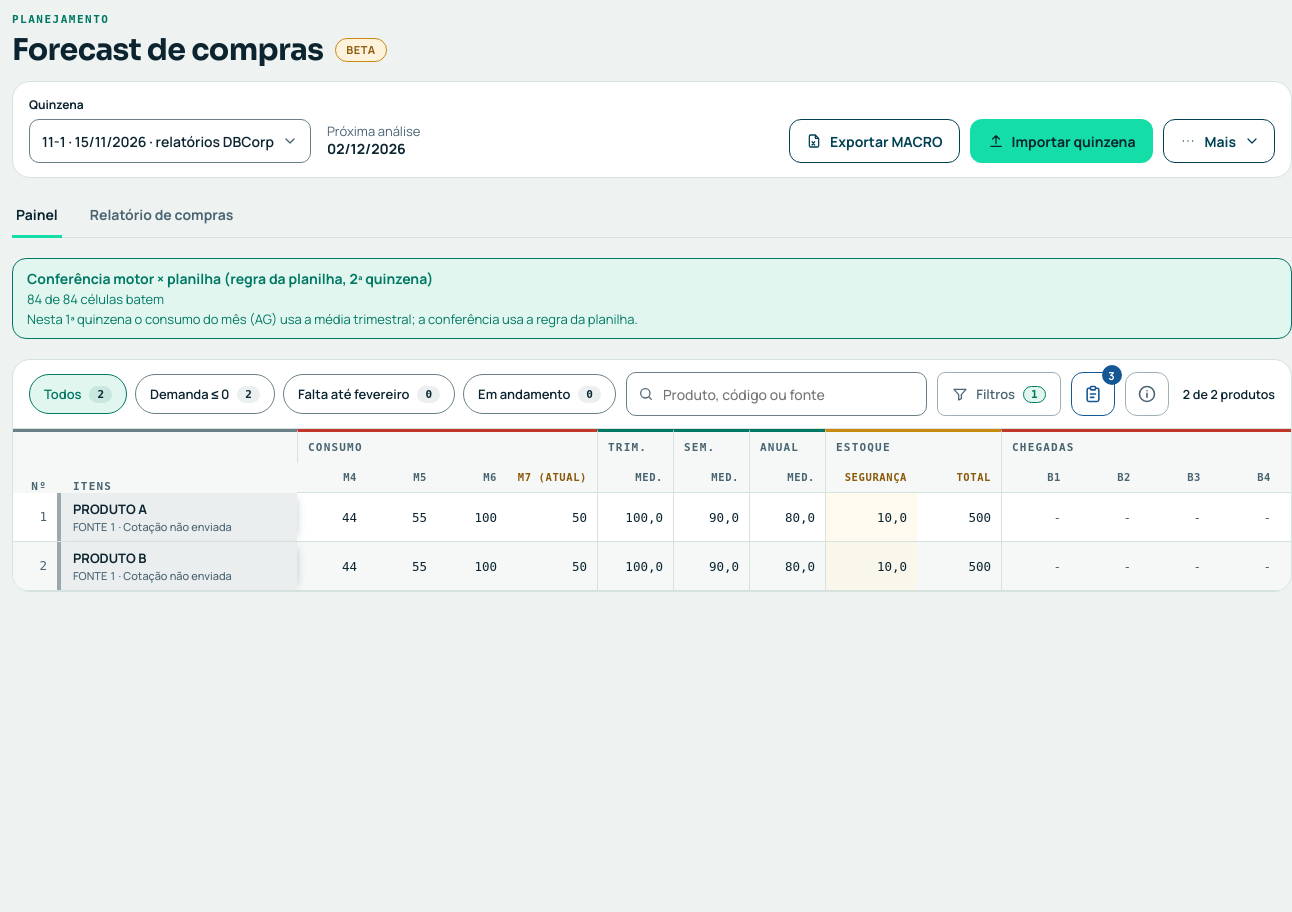
Test: Painel - notas da quinzena em icone › o balao abre ao passar o mouse, com os textos exatos
Hover over the button with test id "fc-notas-botao" at (1092, 394), box [1070,372,1114,416]
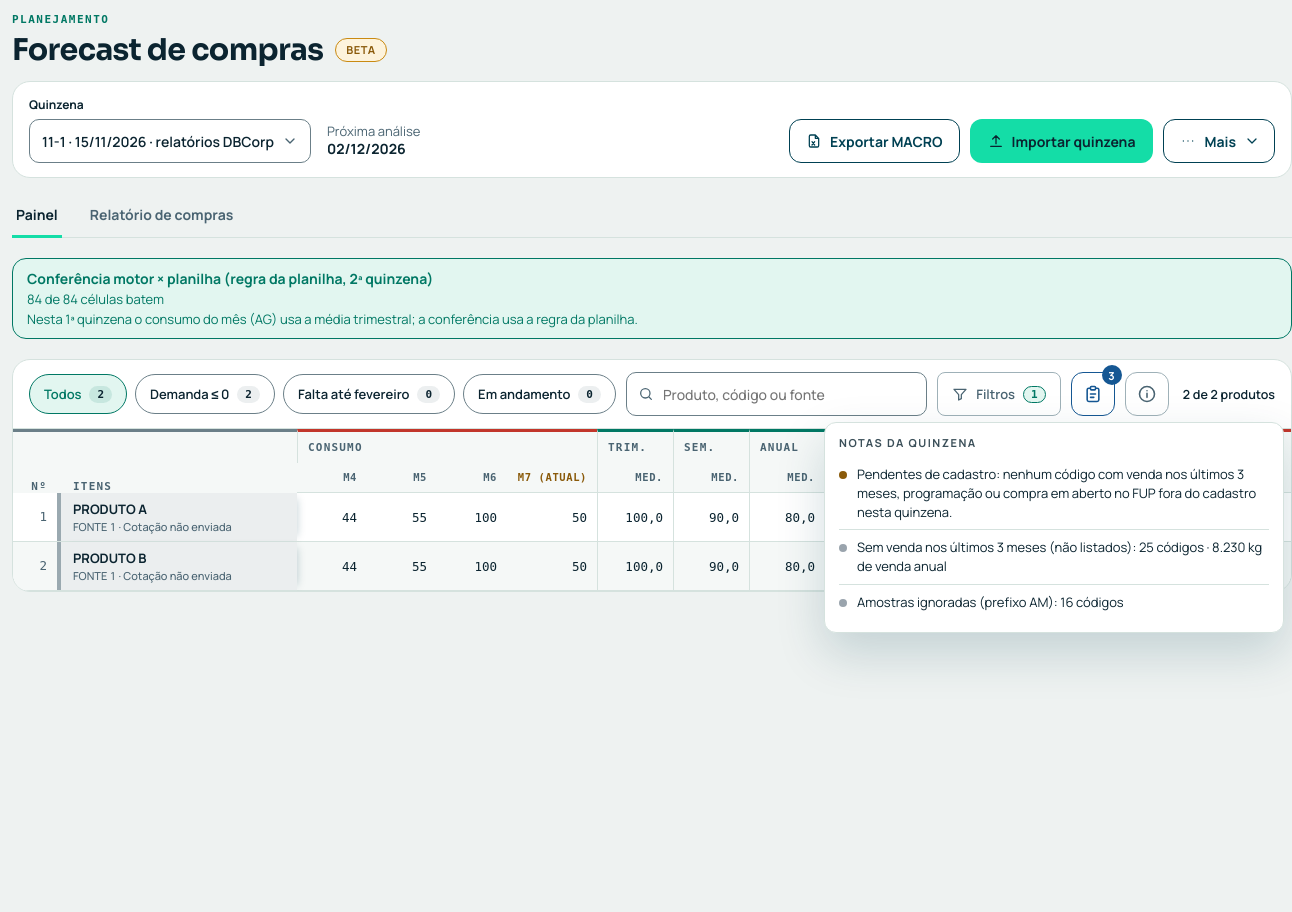
Result: the text "Pendentes de cadastro: nenhum código com venda nos últimos 3 meses, programação ou compra em aberto no FUP fora do cadas" is shown at [857,465,1256,521]
Result: the text "Sem venda nos últimos 3 meses (não listados): 25 códigos · 8.230 kg de venda anual" is shown at [857,538,1262,575]
Result: the text "Amostras ignoradas (prefixo AM): 16 códigos" is shown at [857,593,1124,612]
